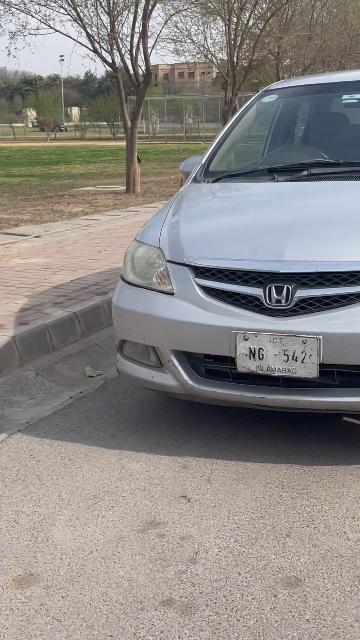plate: (234, 332, 320, 379)
